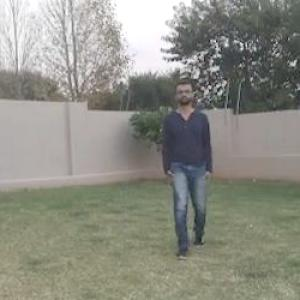follow: (167, 84, 209, 250)
